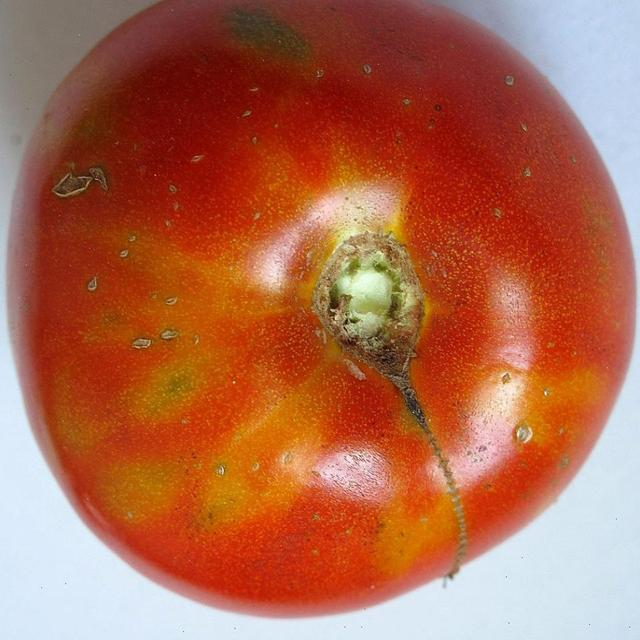Spotted wilt Virus Fruit: (59, 0, 153, 3)
